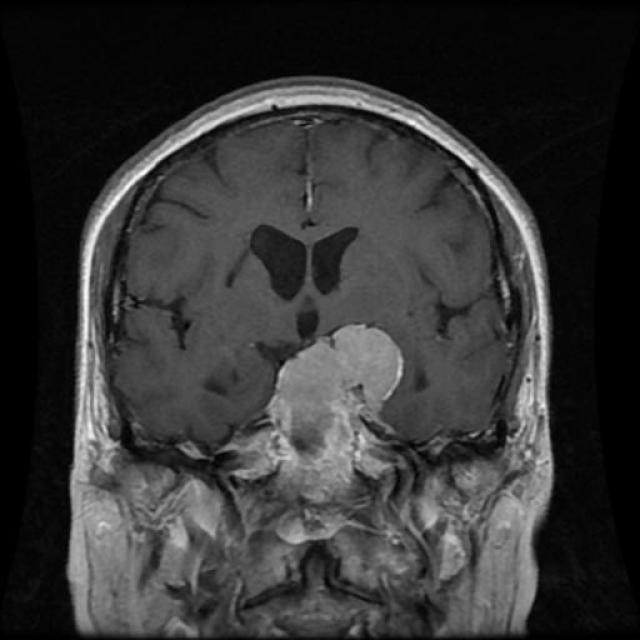meningioma: (259, 328, 406, 494)
